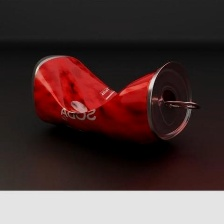can: (26, 51, 202, 151)
